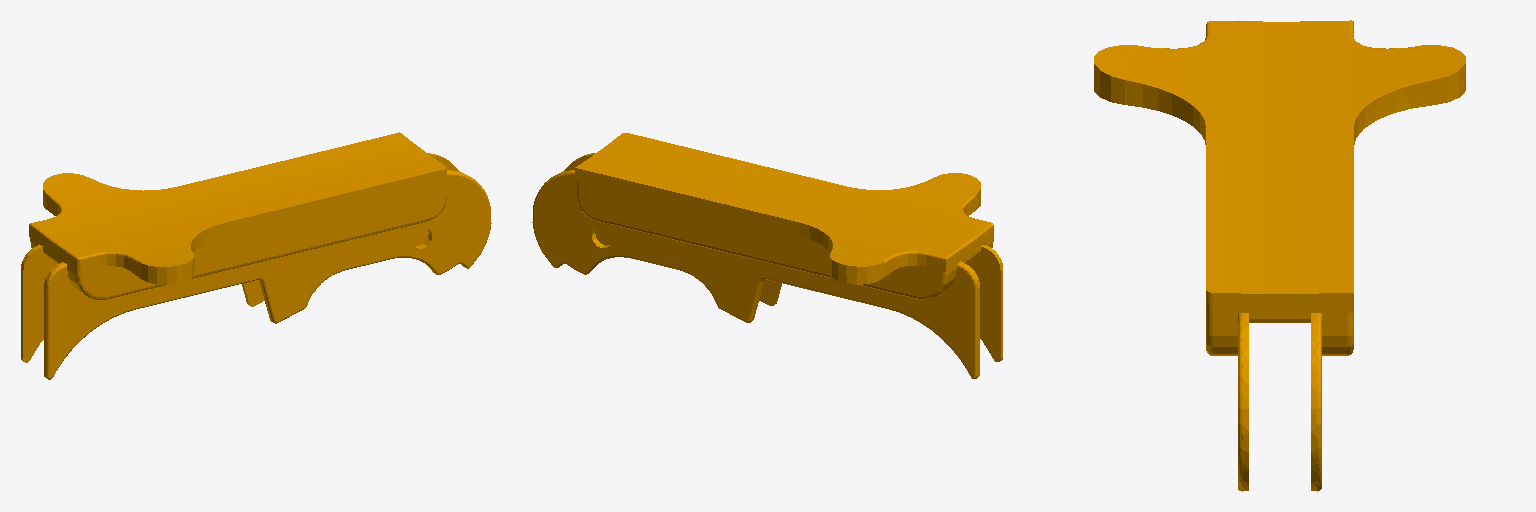
robot.urdf — 00444_plug:
<?xml version="1.0"?>
<robot name="00444_plug">
	<link name="00444_plug">
		<visual>
			<geometry>
				<mesh filename="../mesh/00444/asset_plug.obj"/>
			</geometry>
		</visual>
		<collision>
			<geometry>
				<mesh filename="../mesh/00444/asset_plug.obj"/>
			</geometry>
			<sdf resolution="256"/>
		</collision>
	</link>
</robot>

--- Render facts (derived) ---
The picture shows the robot from 3 angles, left to right: view 1: azimuth 30°, elevation 25°; view 2: azimuth 150°, elevation 25°; view 3: azimuth 270°, elevation 25°; orthographic projection.
Robot: 00444_plug — 1 links, 0 joints (none); root link 00444_plug; default pose: all joints at 0.
Visible links, largest first — view 1: 00444_plug; view 2: 00444_plug; view 3: 00444_plug.
Boxes of the visible links, <box> form: 00444_plug: <box>21,132,491,379</box>; 00444_plug: <box>532,133,1002,378</box>; 00444_plug: <box>1094,20,1465,491</box>.
Bounding box of the posed robot: 0.0588 × 0.0282 × 0.0165 m (x, y, z).
Meshes: 1 distinct files referenced, 1 mesh visuals loaded (1 OBJ).
